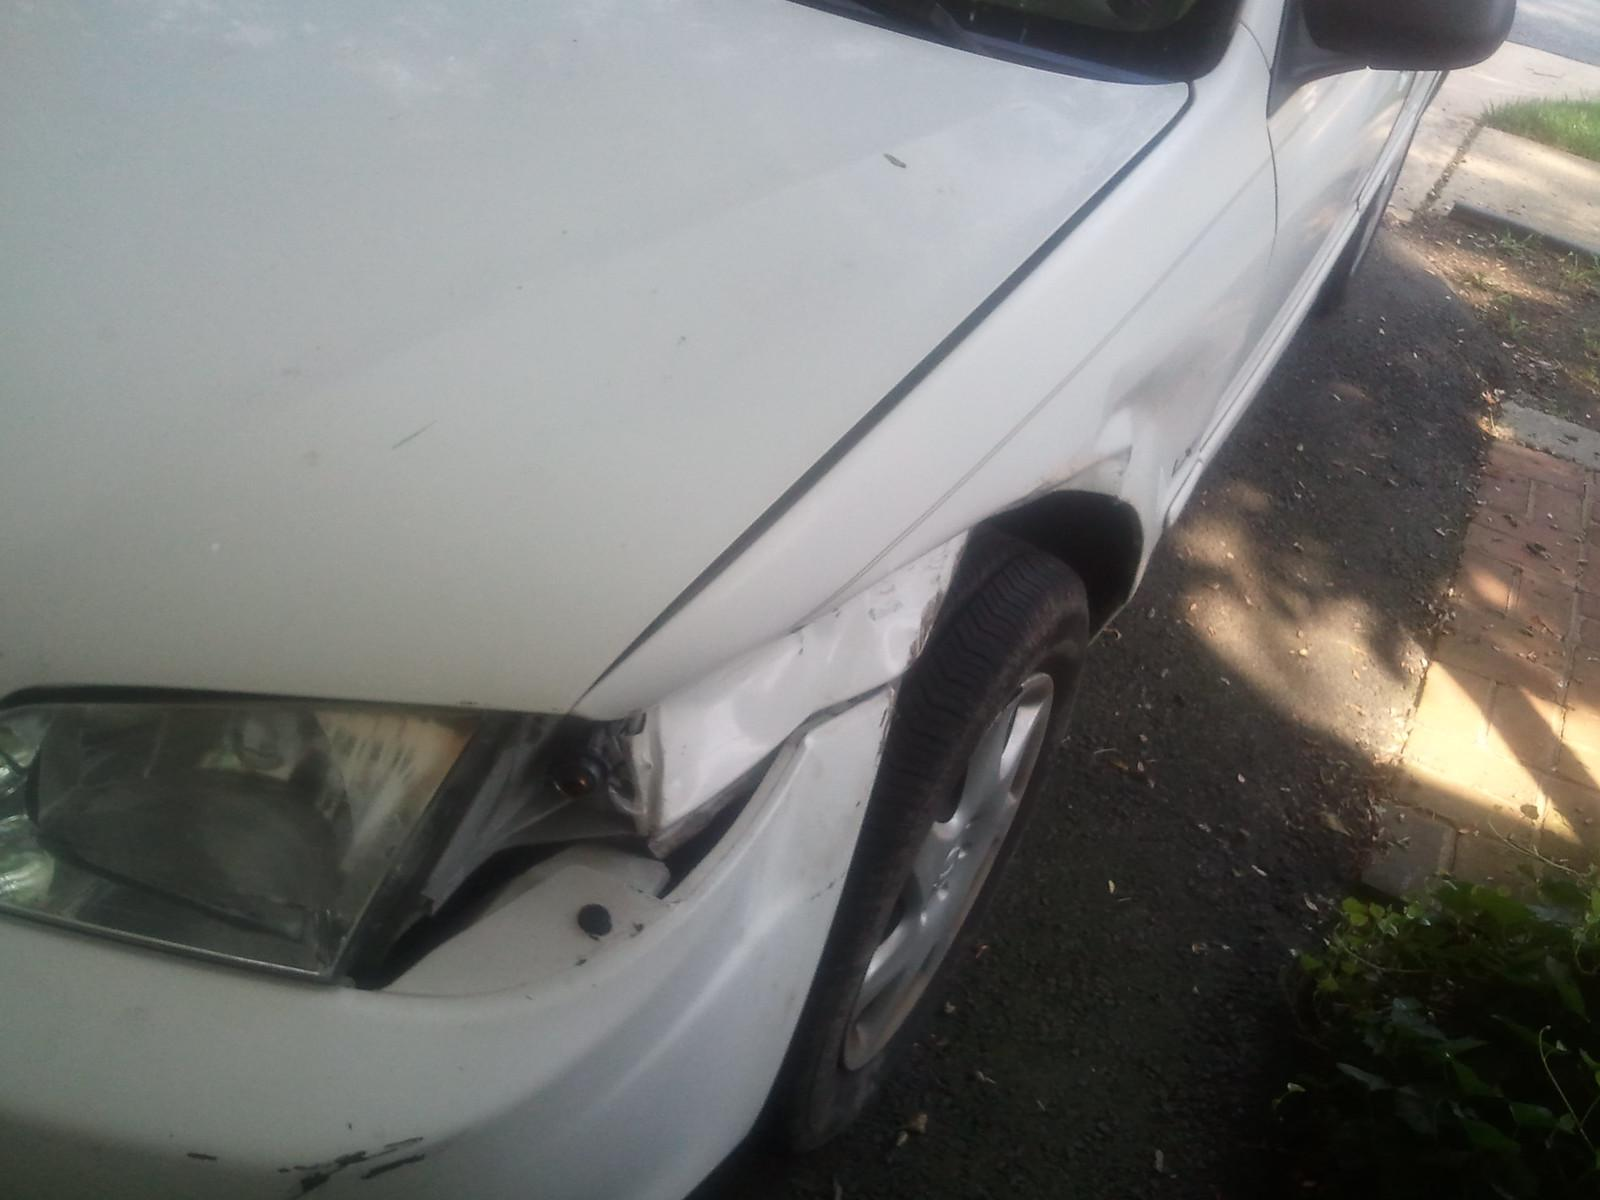Headlight-Damage: (0, 703, 603, 1024)
fender-dent: (574, 211, 1310, 766)
front-bumper-dent: (0, 977, 831, 1199)
